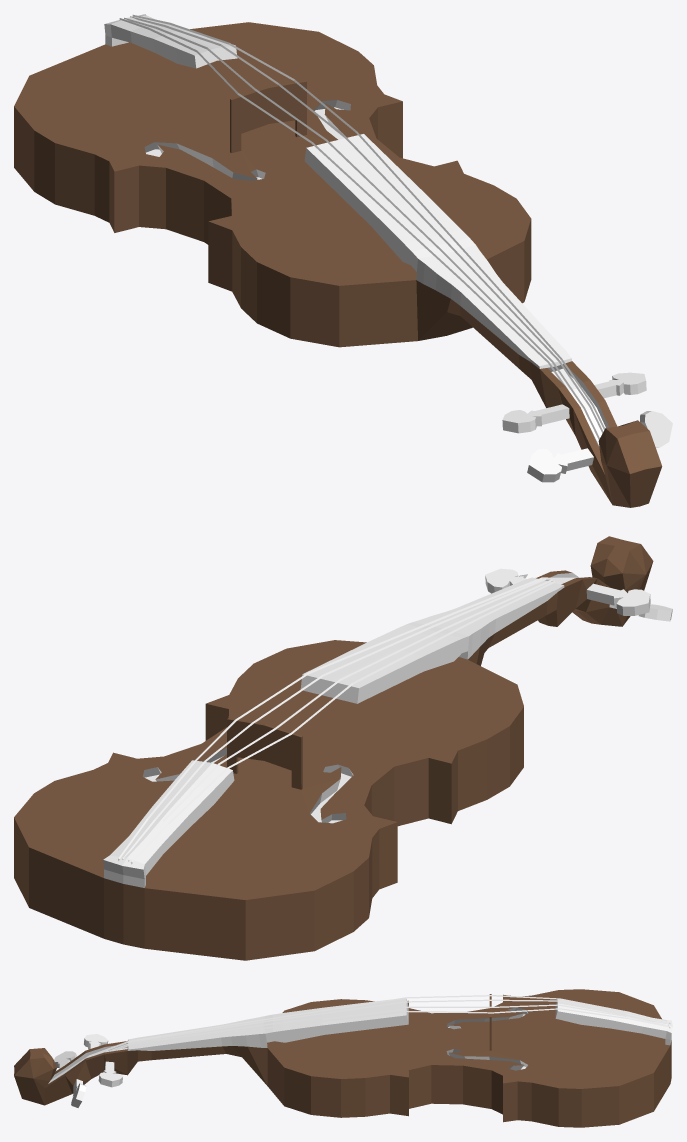
Rendered from Violin.glb.
The picture shows the model from 3 angles, top to bottom: view 1: azimuth 30°, elevation 25°; view 2: azimuth 150°, elevation 25°; view 3: azimuth 270°, elevation 25°; orthographic projection. The views are drawn at different scales.
Parts seen in each view (by area): view 1: Violin; view 2: Violin; view 3: Violin.
Part boxes in pixels (bbox=[...]): Violin: bbox=[14, 14, 672, 507]; Violin: bbox=[14, 536, 672, 960]; Violin: bbox=[14, 989, 672, 1127].
Size of the model in its own units: 0.8396 by 0.3956 by 2.34.
